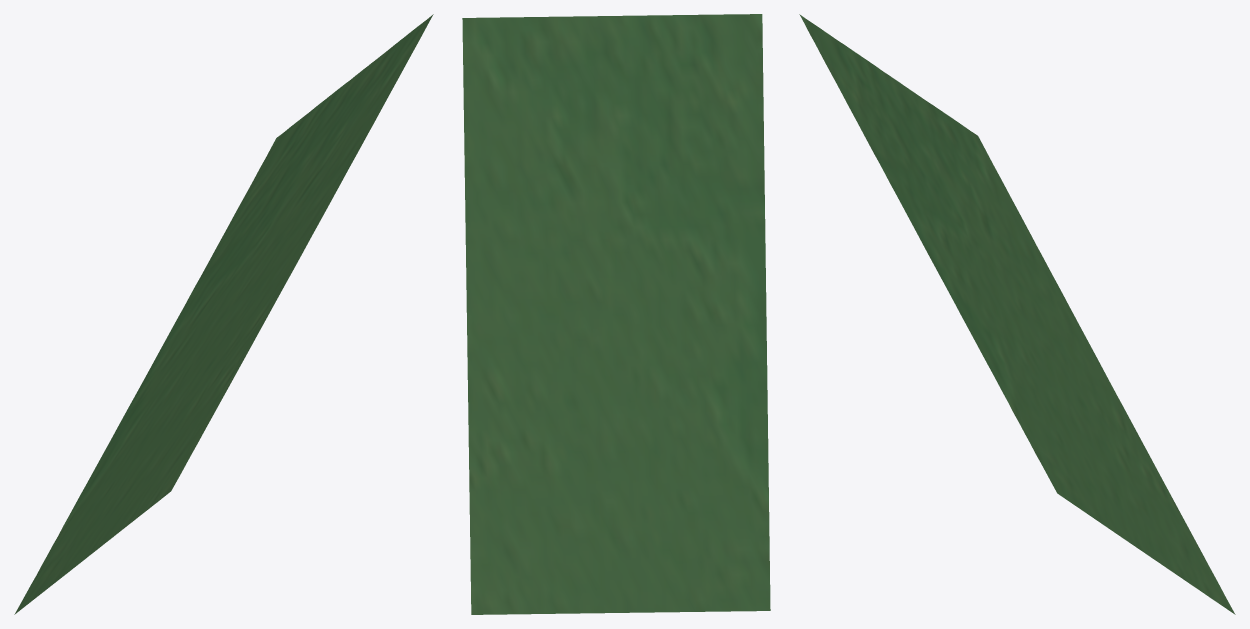
3 renders of one model, left to right at view 1: azimuth 30°, elevation 25°; view 2: azimuth 150°, elevation 25°; view 3: azimuth 270°, elevation 25°, orthographic. The views are drawn at different scales.
Size of the model in its own units: 19754 by 26618 by 19244.
